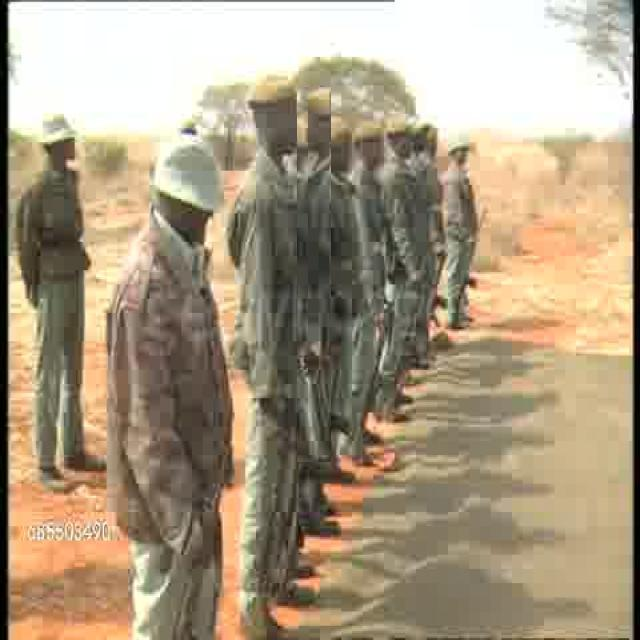poacher: (105, 128, 231, 610), (229, 69, 304, 603), (9, 100, 111, 490), (318, 112, 362, 466), (297, 87, 331, 462), (354, 115, 390, 428), (436, 126, 488, 324)
